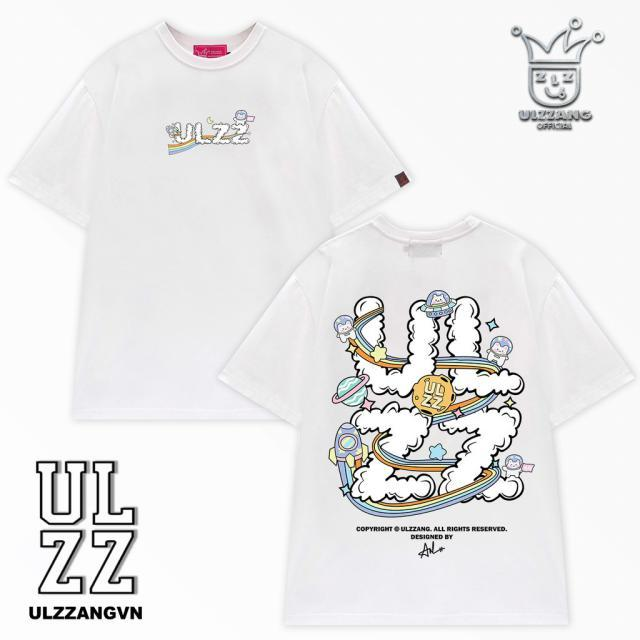Shirt: (223, 209, 630, 626), (8, 22, 412, 420)
